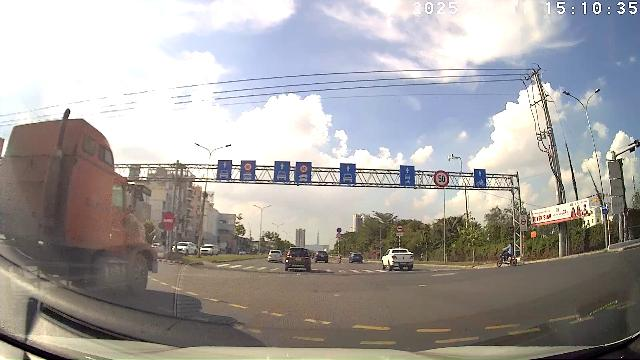127-toc-do-toi-da-50: (433, 170, 449, 187)
